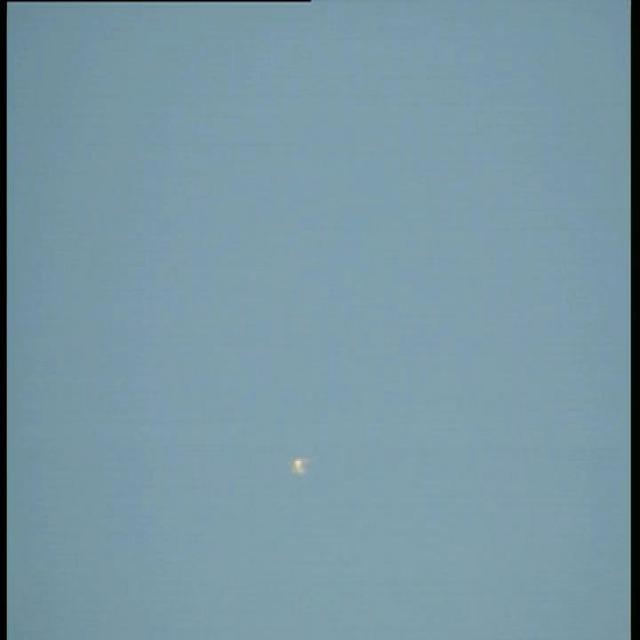drone: (281, 450, 319, 481)
